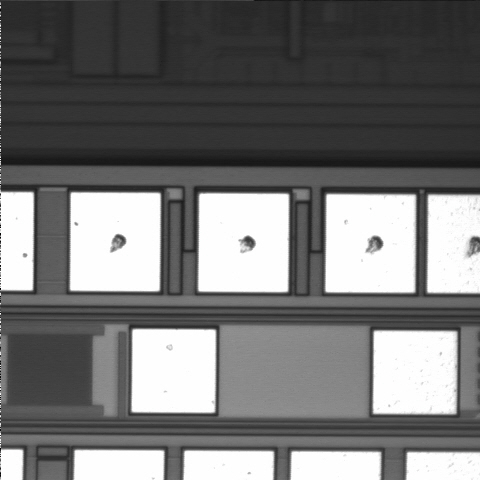pad: (198, 193, 289, 292), (326, 194, 416, 293), (70, 193, 160, 291), (132, 329, 216, 413), (373, 331, 457, 414)
